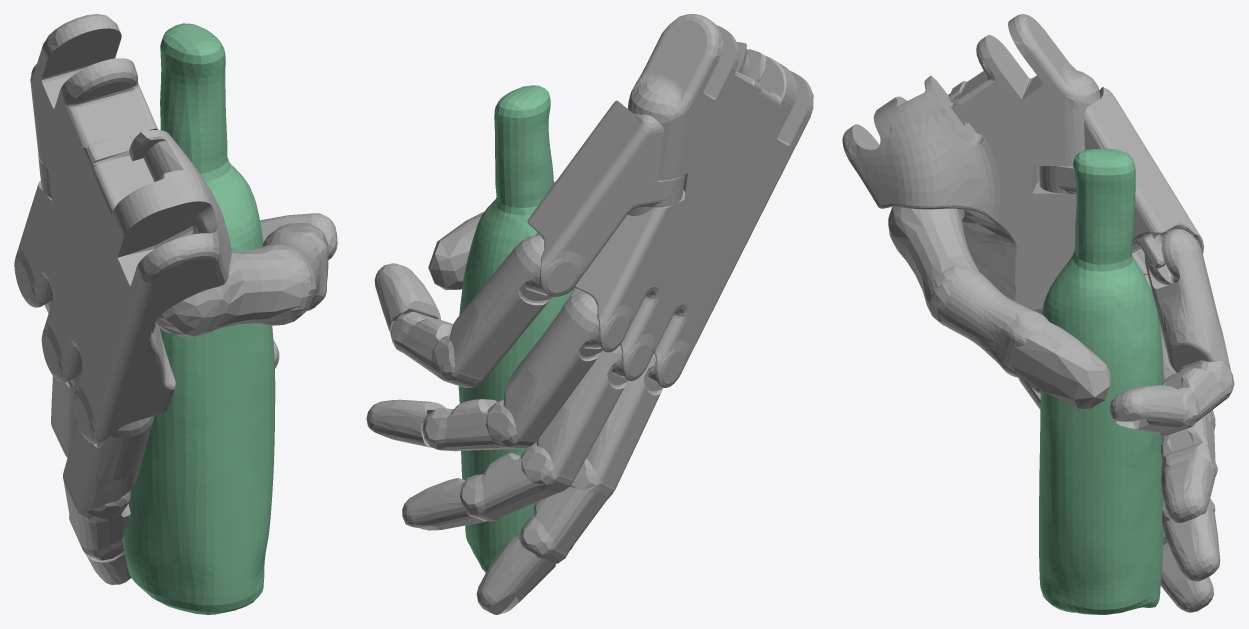
3 renders of one model, left to right at view 1: azimuth 30°, elevation 25°; view 2: azimuth 150°, elevation 25°; view 3: azimuth 270°, elevation 25°, orthographic. The views are drawn at different scales.
Visible parts, largest first — view 1: world; view 2: world; view 3: world.
Part boxes in pixels (x1,y1,x2,y2): world: (14,14,337,614); world: (366,14,813,614); world: (842,14,1234,614).
Bounding box in the file's own units: 0.7485 × 1.35 × 0.8865.
